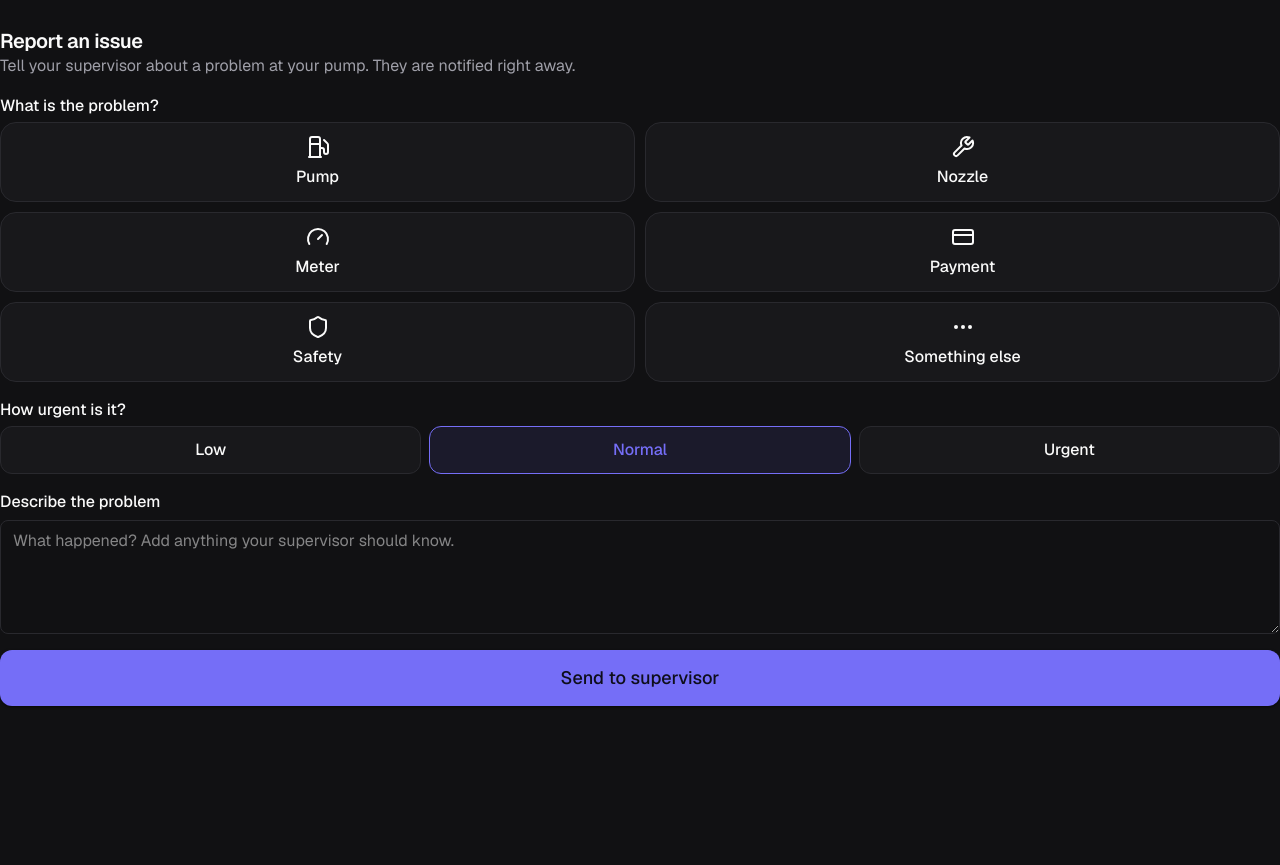
Test case: ReportIssuePage › confirms before sending, posts a dedupe_key and NO station_id, then shows the sent state
Click the button "Pump".
click(318, 162)  # box [0,122,635,202]
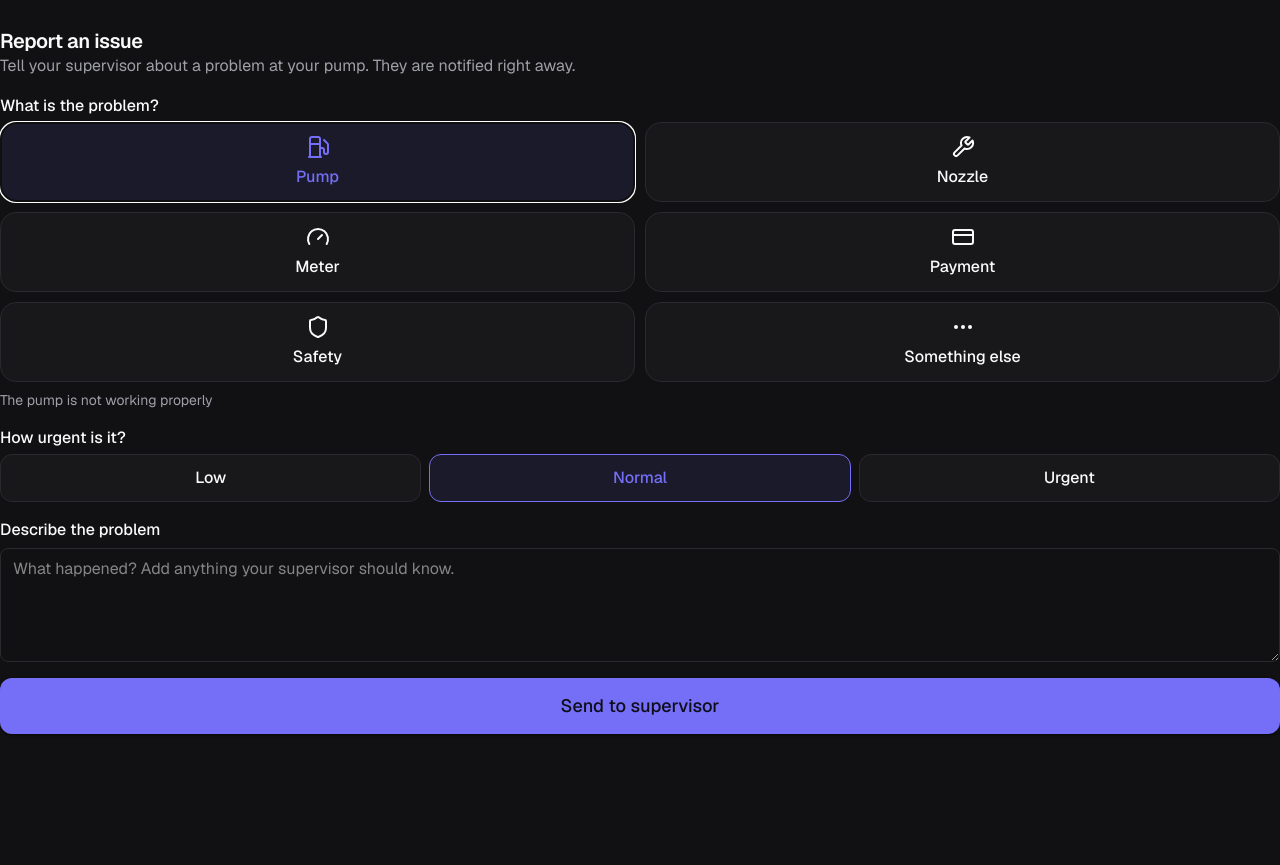
Type "Pump 1 will not dispense" into the text box labelled "Describe the problem".
click(640, 605); type("Pump 1 will not dispense")  # box [0,548,1279,662]
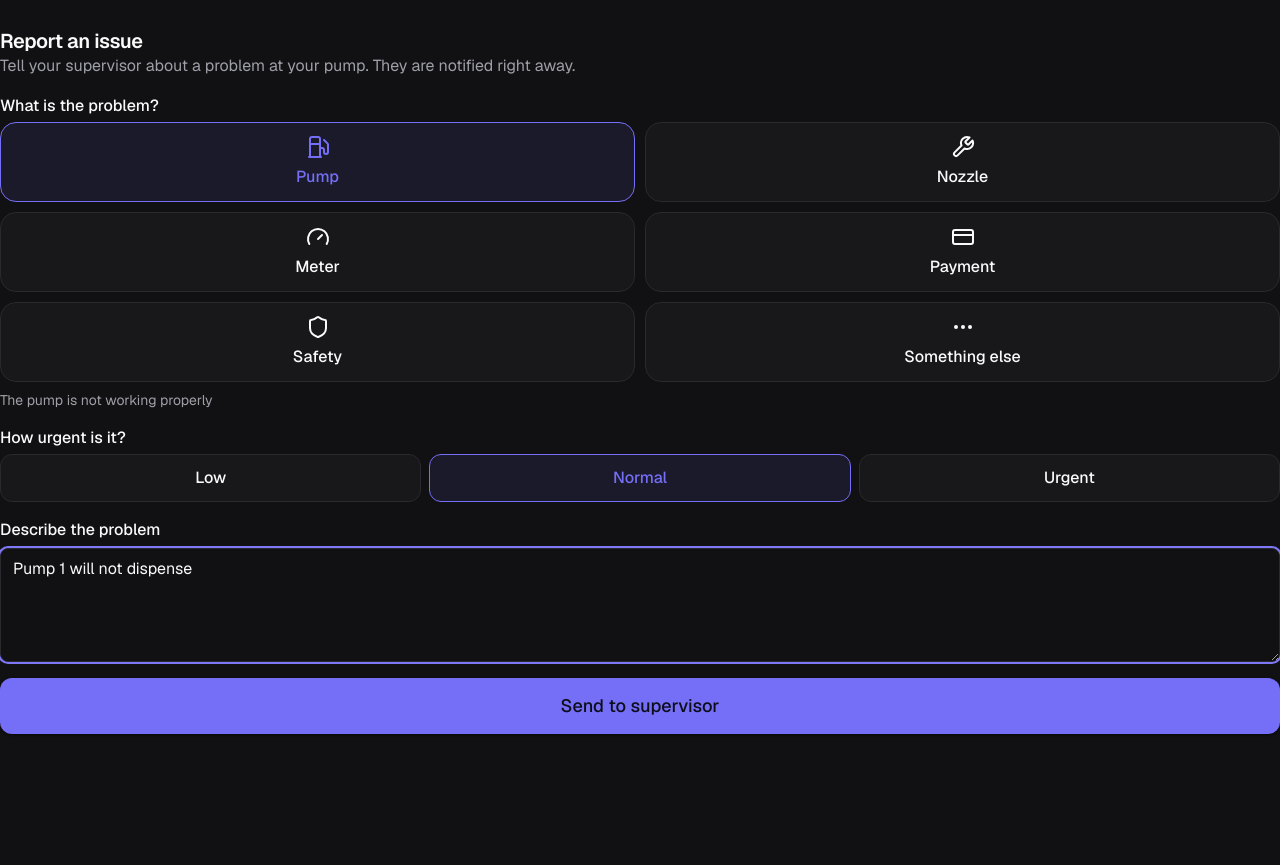
Click the button "Send to supervisor".
click(640, 706)  # box [0,678,1279,734]
(page scrolled)
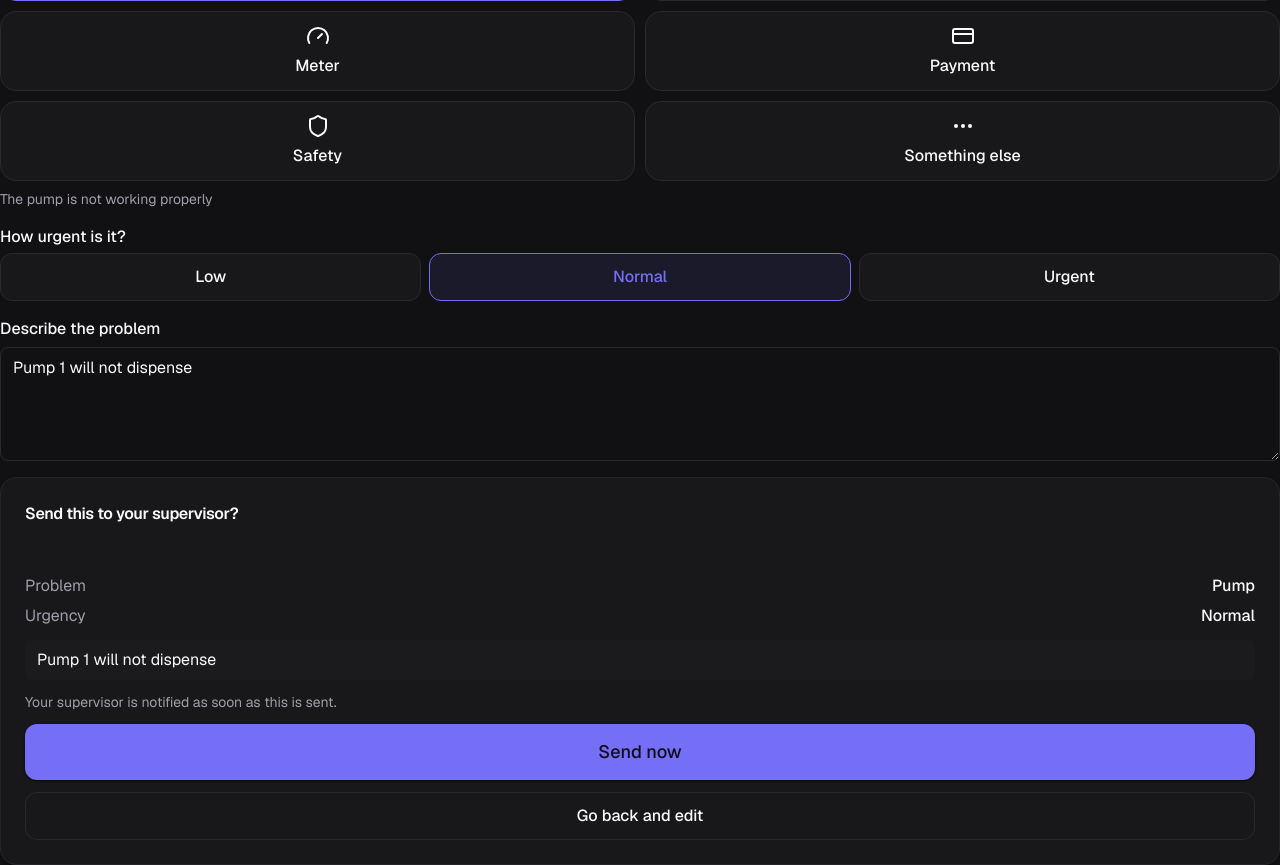
Now the heading "Send this to your supervisor?" is shown, box [25,503,238,524]
Click the button "Send now".
click(640, 752)  # box [25,724,1255,780]
(page scrolled)
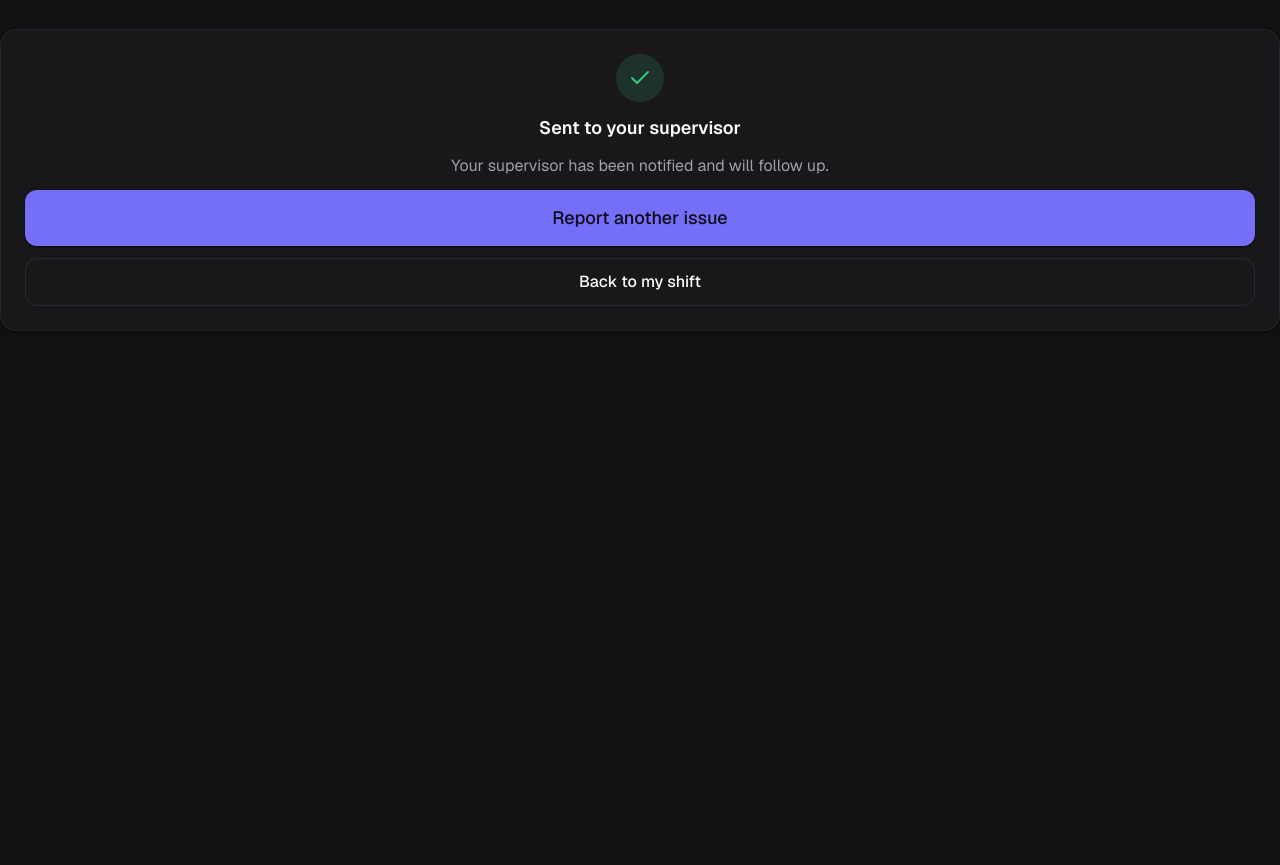
Now the text "Sent to your supervisor" is shown, box [539,114,741,142]
